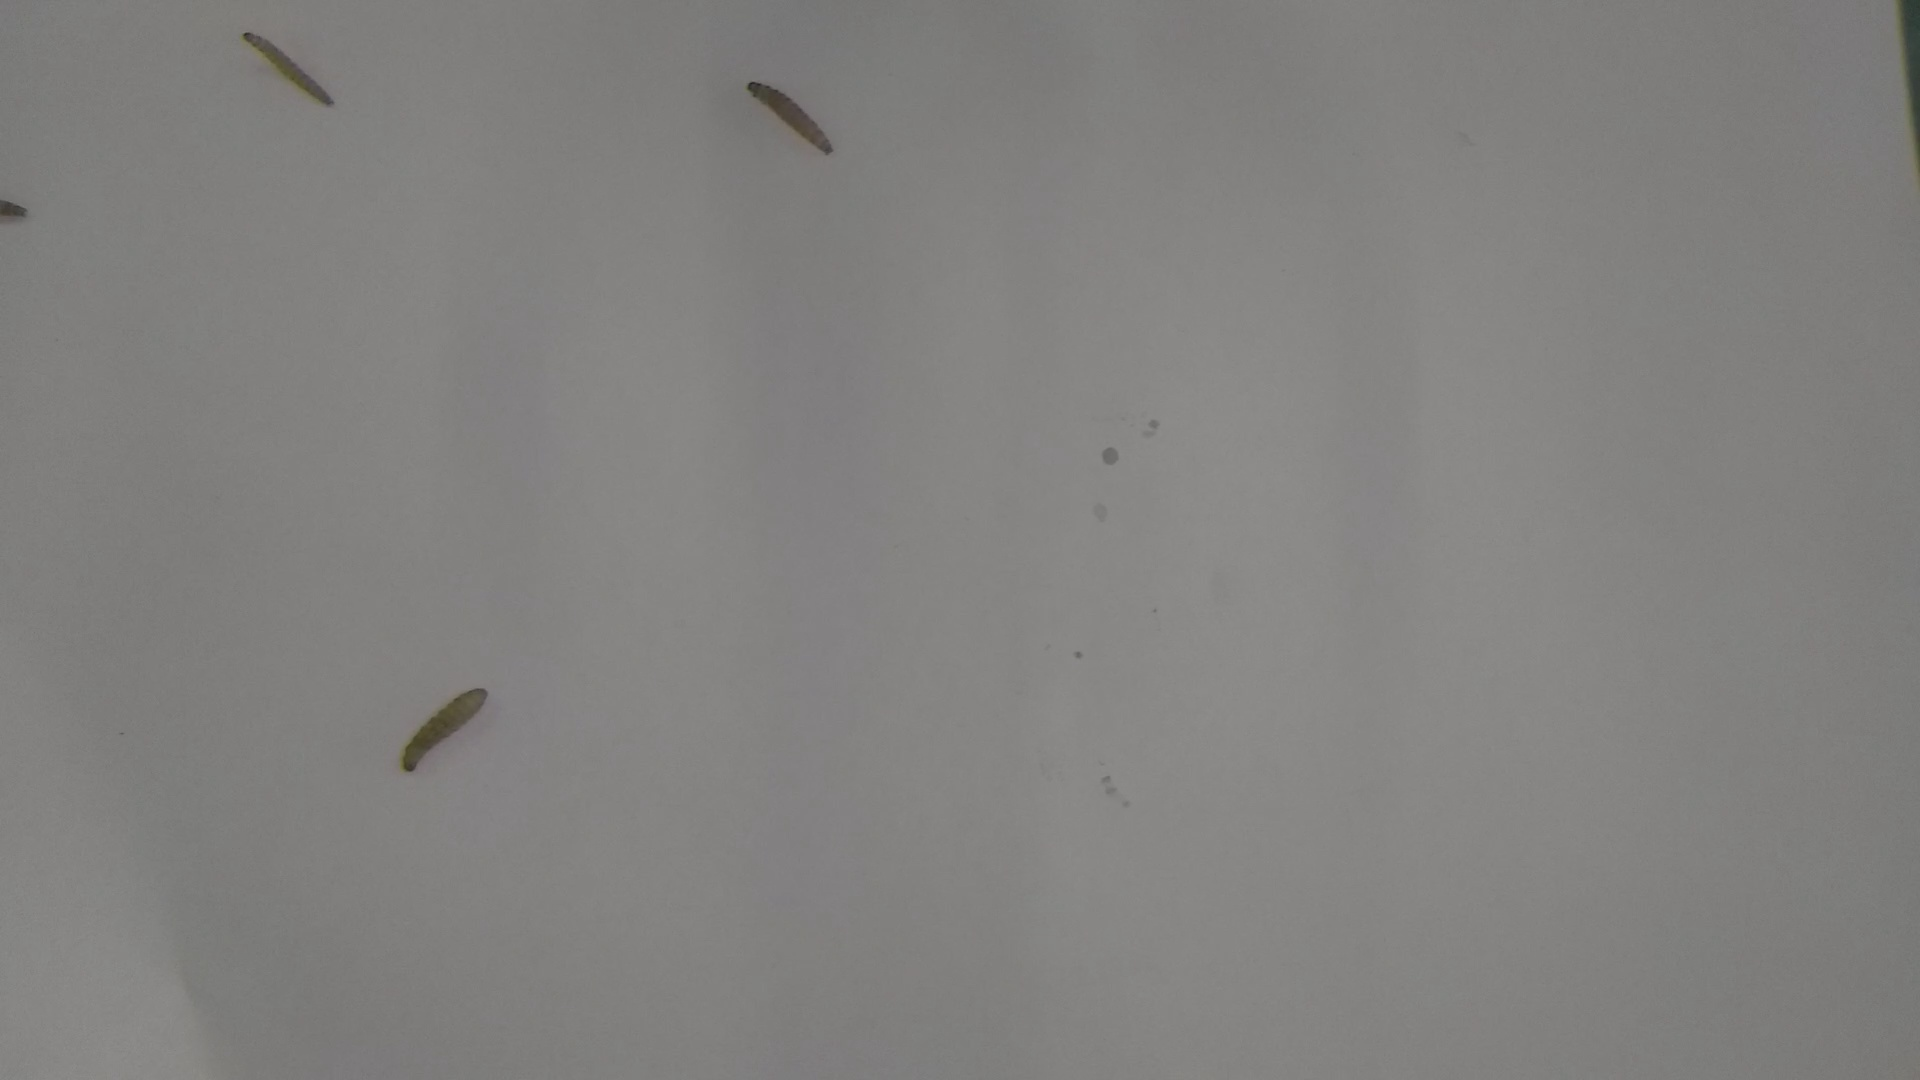efsb: (397, 676, 497, 785), (733, 75, 844, 161), (237, 30, 342, 117)
